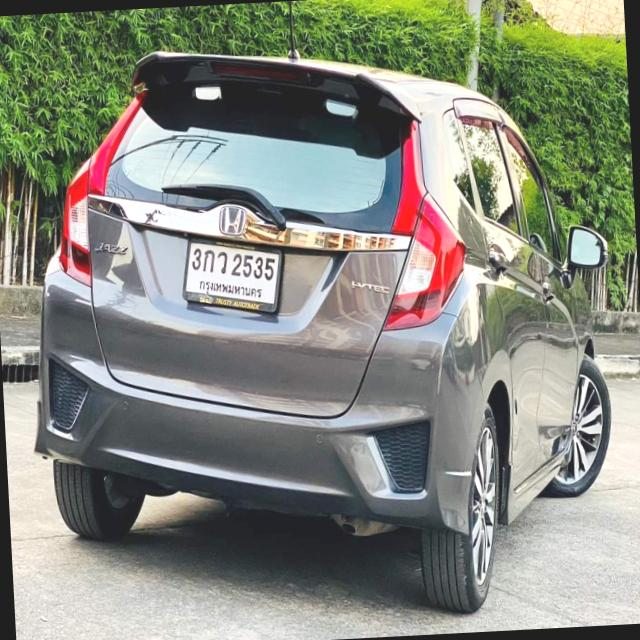license_plate: (180, 225, 287, 326)
